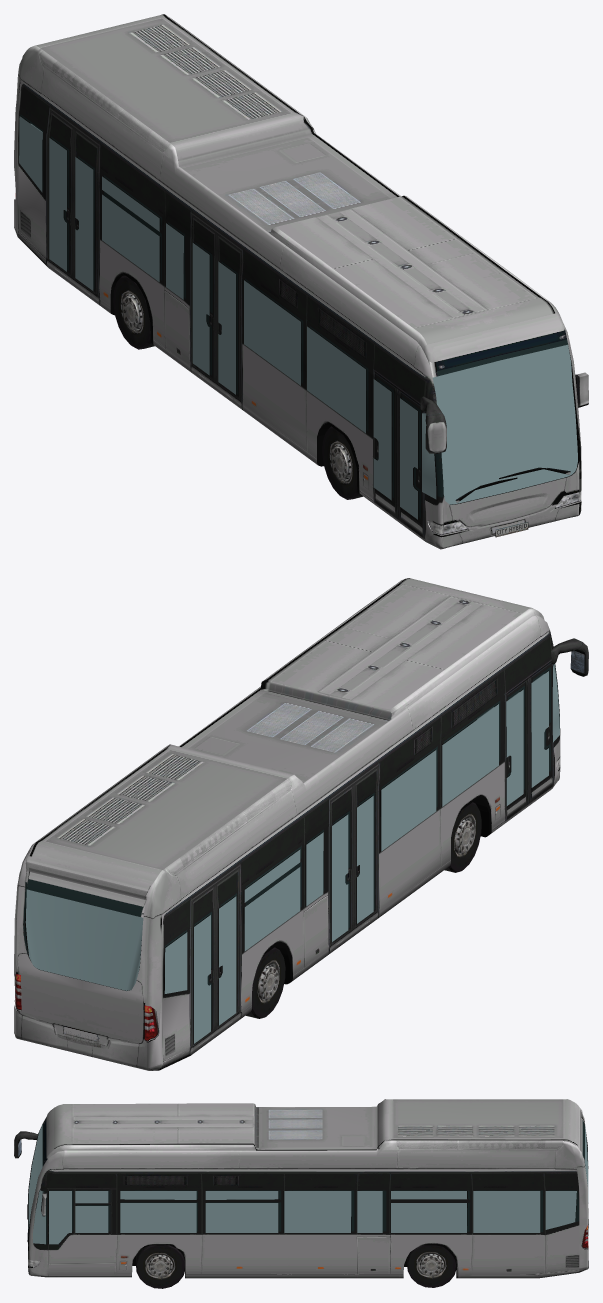
The picture shows the model from 3 angles, top to bottom: view 1: azimuth 30°, elevation 25°; view 2: azimuth 150°, elevation 25°; view 3: azimuth 270°, elevation 25°; orthographic projection. The views are drawn at different scales.
Visible parts, largest first — view 1: bus02_, bus02_gla_, BTire_RR, BTire_FR; view 2: bus02_, bus02_gla_, BTire_RR, BTire_FR; view 3: bus02_, bus02_gla_, BTire_FL, BTire_RL.
Boxes of the visible parts, bbox=[...] form: bus02_: bbox=[14, 14, 588, 549]; bus02_gla_: bbox=[19, 116, 577, 519]; BTire_RR: bbox=[113, 275, 154, 349]; BTire_FR: bbox=[322, 426, 362, 499]; bus02_: bbox=[14, 578, 588, 1070]; bus02_gla_: bbox=[25, 664, 559, 1043]; BTire_RR: bbox=[246, 947, 285, 1018]; BTire_FR: bbox=[444, 802, 481, 872]; bus02_: bbox=[14, 1099, 588, 1278]; bus02_gla_: bbox=[28, 1124, 588, 1244]; BTire_FL: bbox=[135, 1245, 184, 1288]; BTire_RL: bbox=[407, 1245, 456, 1287].
Size of the model in its own units: 2.95 by 3.46 by 12.28.
5 materials, 4 textured.
